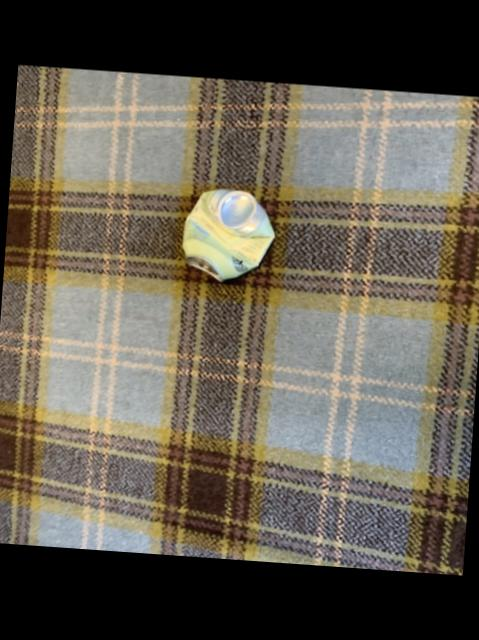metal: (183, 188, 274, 279)
